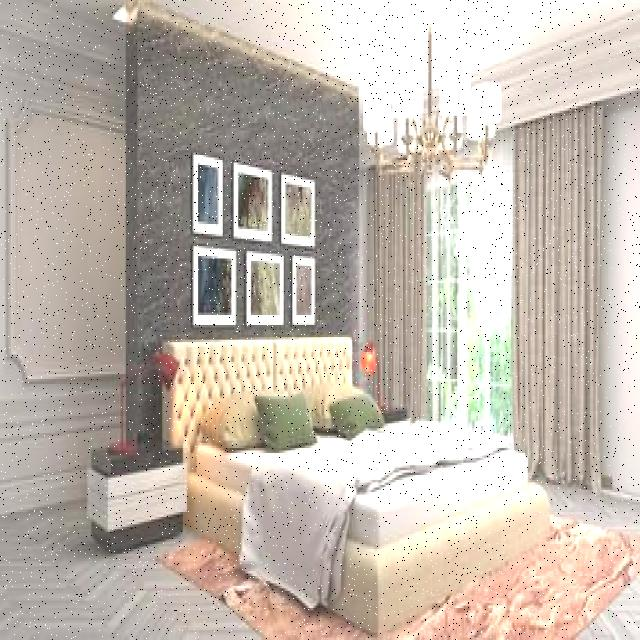bed: (189, 368, 548, 615)
